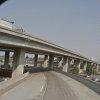Bridge: (5, 18, 94, 70)
